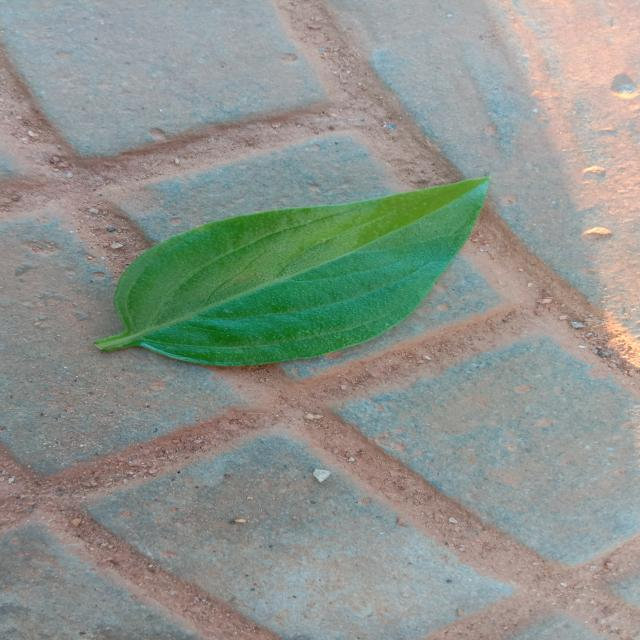kamakasturi: (95, 178, 489, 366)
